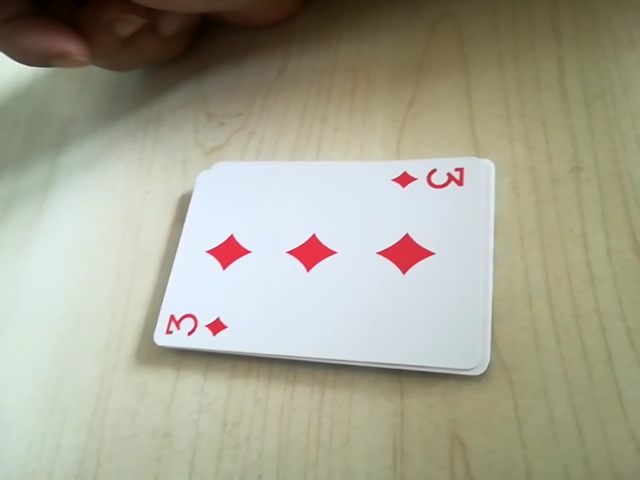fk 3: (388, 158, 474, 199), (158, 303, 235, 345)
